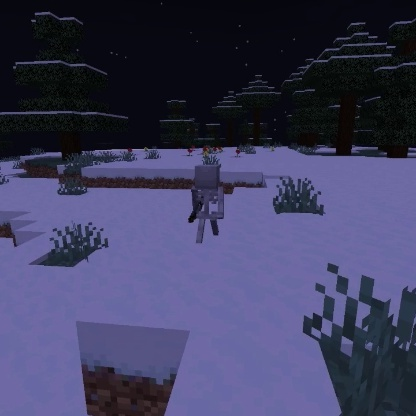skeleton: (185, 161, 227, 246)
